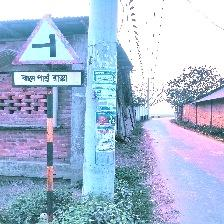Side-road-left: (10, 14, 84, 88)
